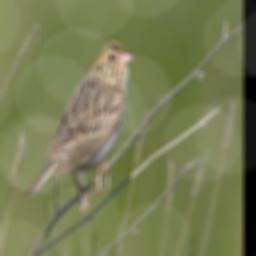Sparrow: (23, 40, 135, 214)
